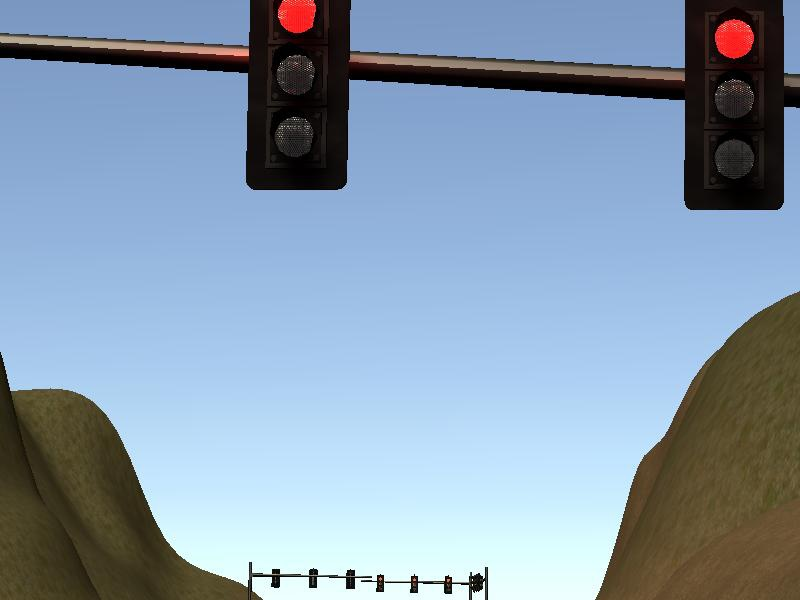Red: (681, 1, 790, 214), (245, 1, 352, 194), (442, 574, 455, 595), (374, 572, 385, 595), (408, 573, 419, 595)
